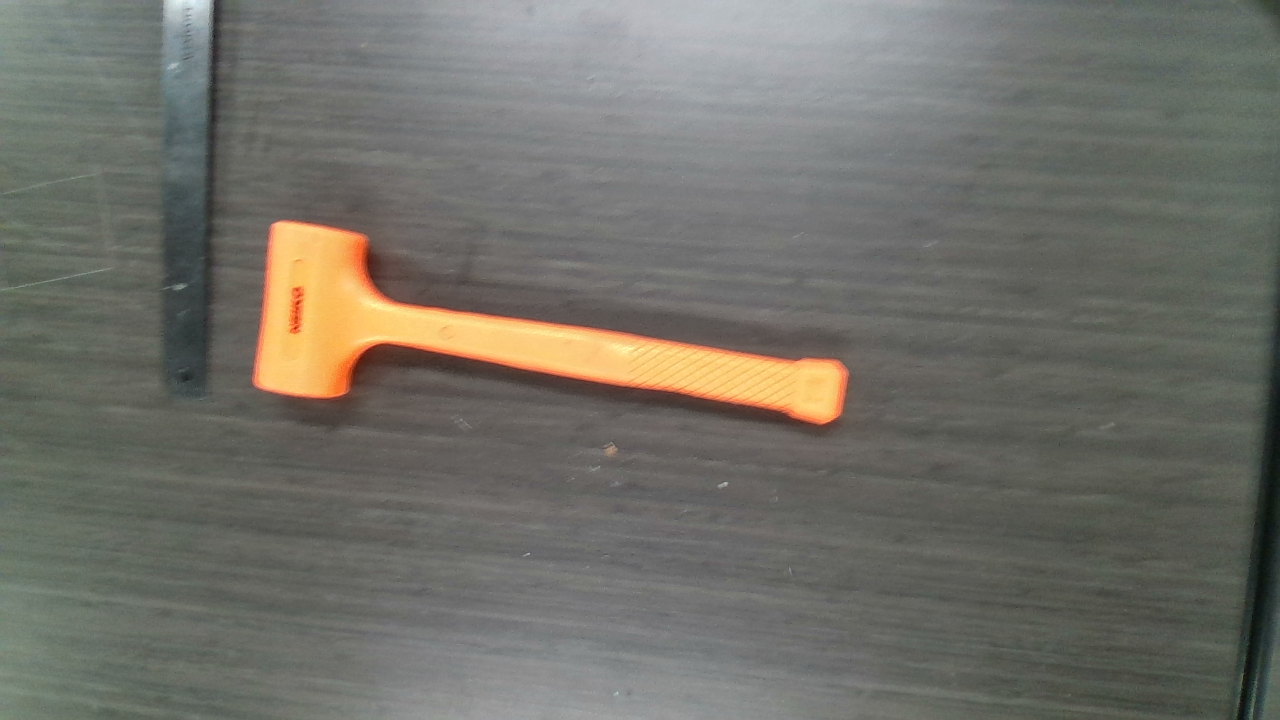Orange Hammer: (261, 222, 850, 426)
